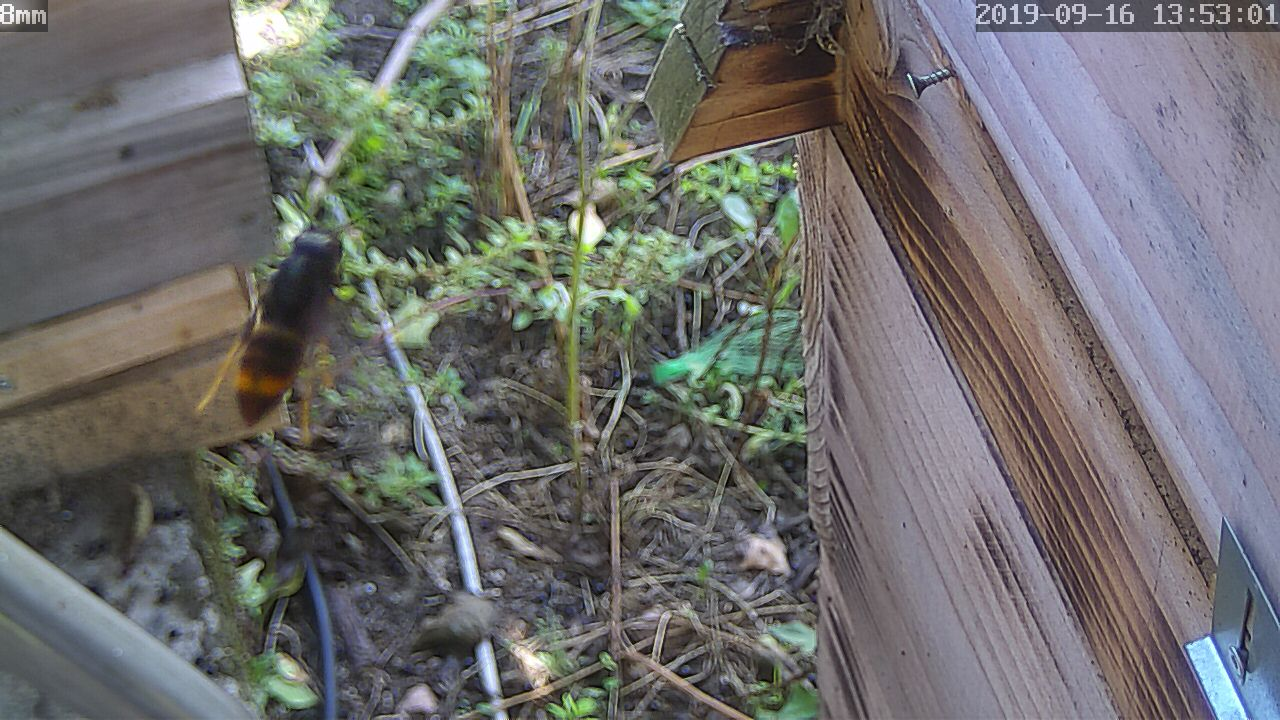hornet: (210, 222, 345, 437)
